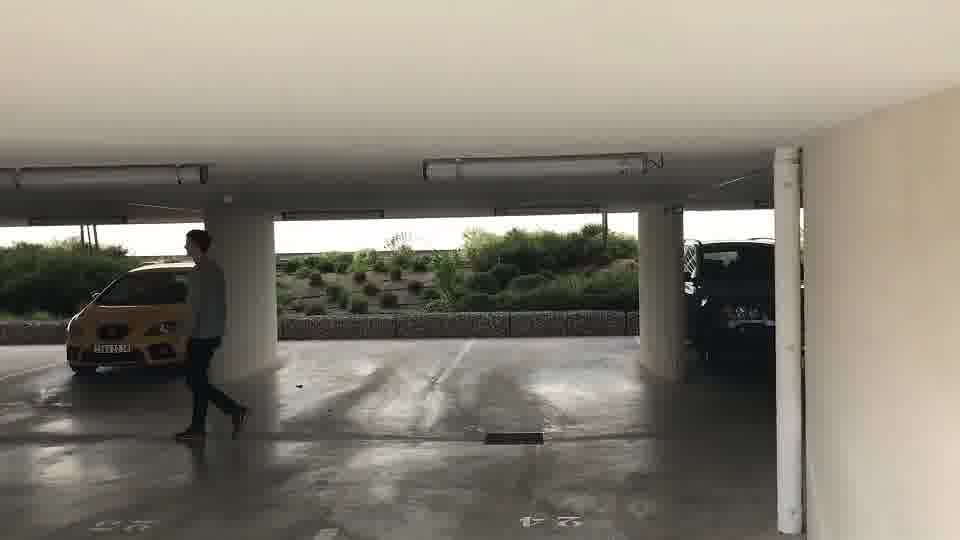jugador: (170, 221, 253, 450)
